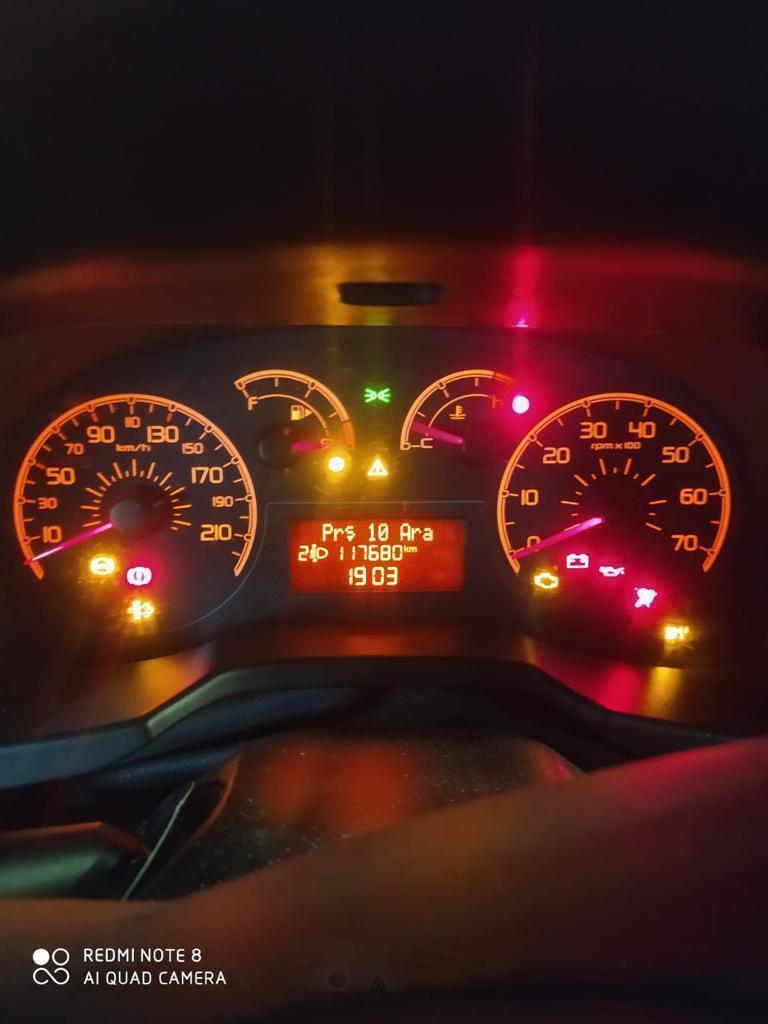0: (371, 565, 384, 586), (377, 522, 389, 541), (391, 543, 403, 561)
1: (367, 521, 377, 542), (338, 544, 344, 562), (348, 566, 353, 587), (350, 545, 356, 561)
2: (297, 543, 309, 562)
3: (385, 565, 398, 586)
6: (368, 544, 379, 561)
7: (357, 543, 367, 561)
8: (380, 543, 391, 561)
9: (353, 565, 366, 586)
X: (321, 522, 333, 542), (399, 522, 411, 541), (344, 524, 356, 541), (333, 527, 344, 541), (422, 527, 433, 541), (411, 527, 421, 541), (409, 545, 418, 552), (403, 544, 408, 552)
odometer: (285, 513, 469, 595)
